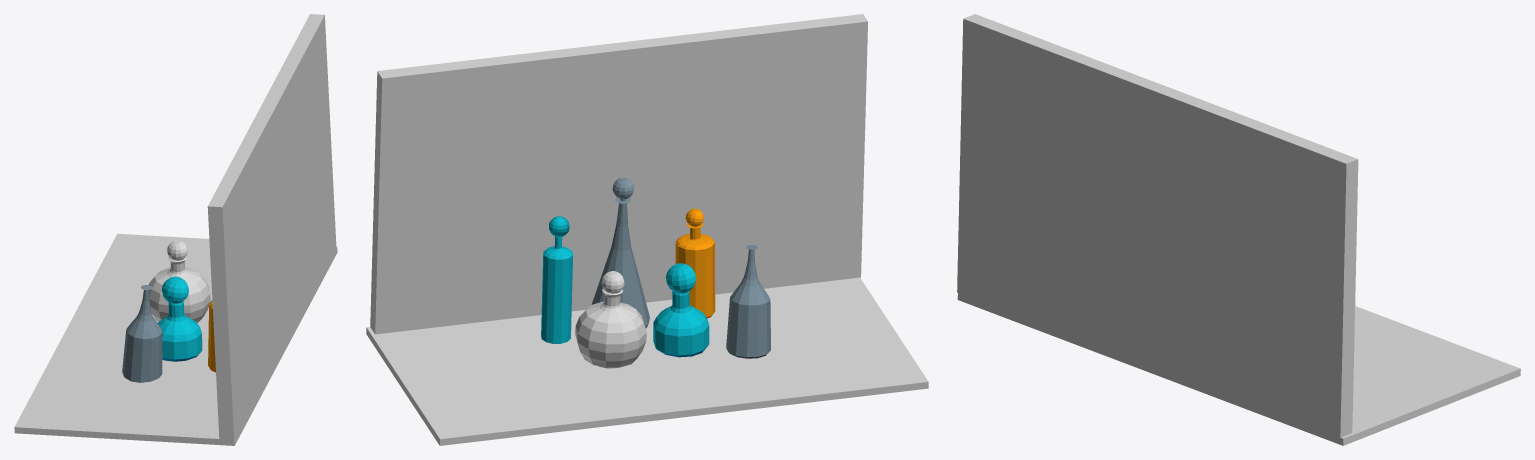
The model's file is Mid-Century Vases.glb.
3 renders of one model, left to right at view 1: azimuth 30°, elevation 25°; view 2: azimuth 150°, elevation 25°; view 3: azimuth 270°, elevation 25°, orthographic. The views are drawn at different scales.
Parts seen in each view (by area): view 1: Node; view 2: Node; view 3: Node.
Part boxes in pixels (x1,y1,x2,y2): Node: [14, 14, 337, 445]; Node: [366, 14, 928, 445]; Node: [957, 14, 1520, 445].
Size of the model in its own units: 2.05 by 1.2 by 2.1.
